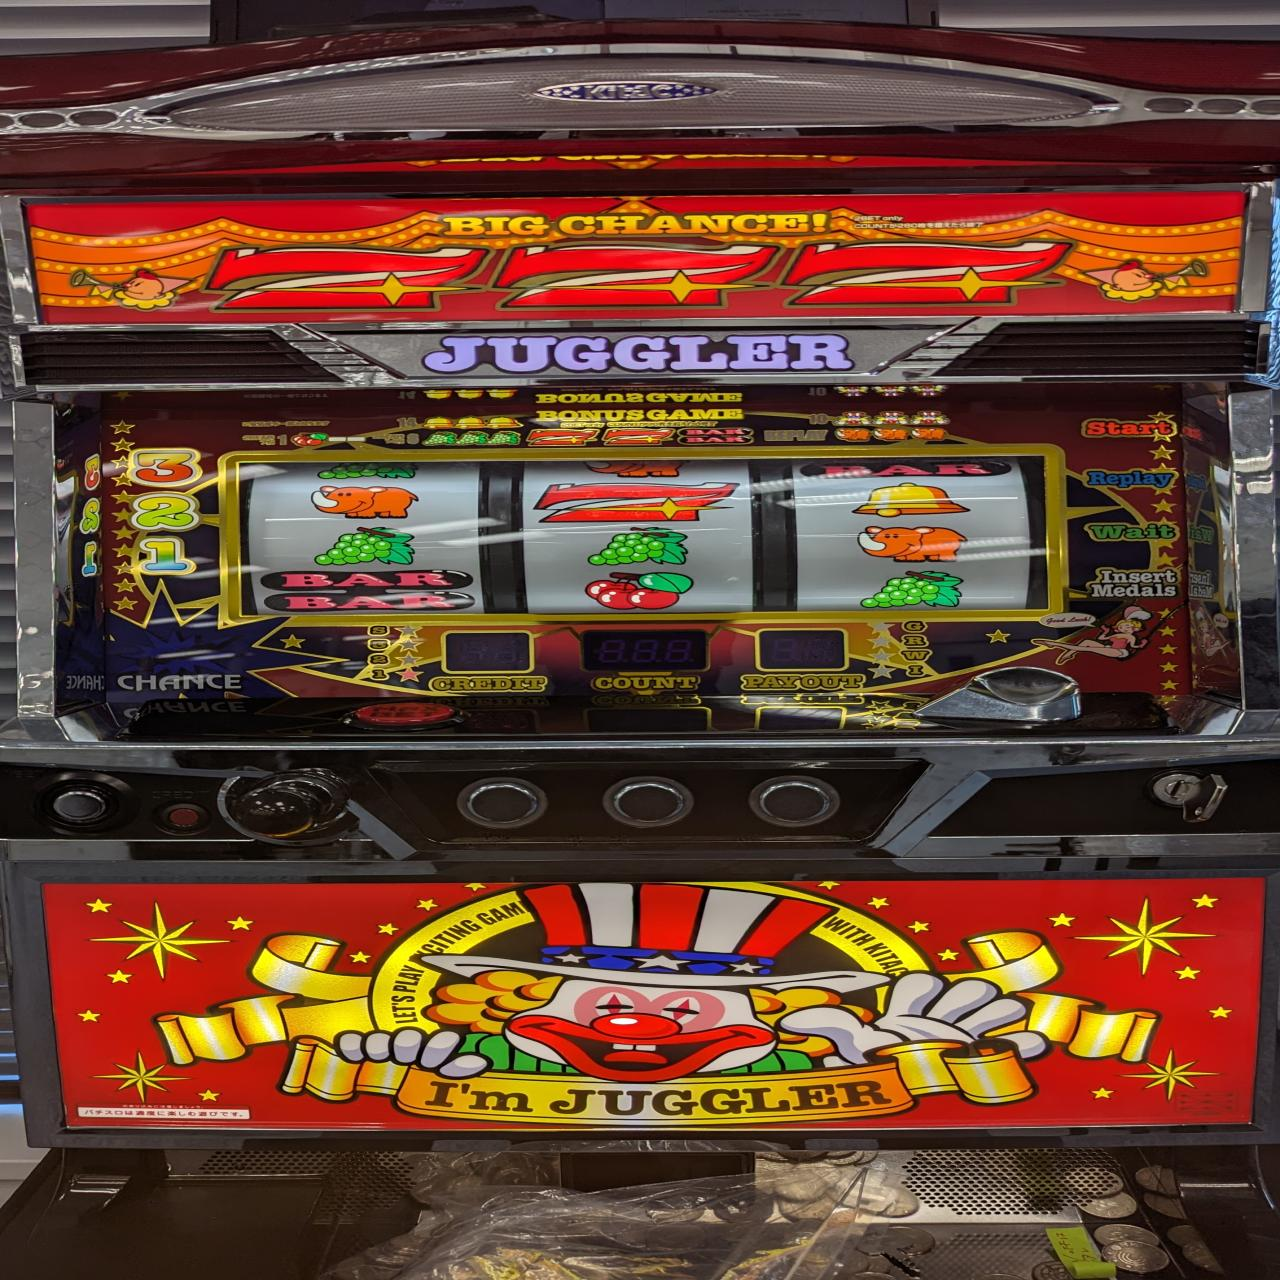7: (536, 481, 738, 526)
Display: (230, 452, 1057, 617)
bar: (259, 567, 477, 614)
bell: (855, 482, 973, 519)
cherry: (583, 572, 695, 611)
grape: (857, 568, 966, 610), (586, 527, 690, 567), (313, 526, 416, 566)
rhino: (302, 482, 421, 520), (852, 526, 969, 564)
